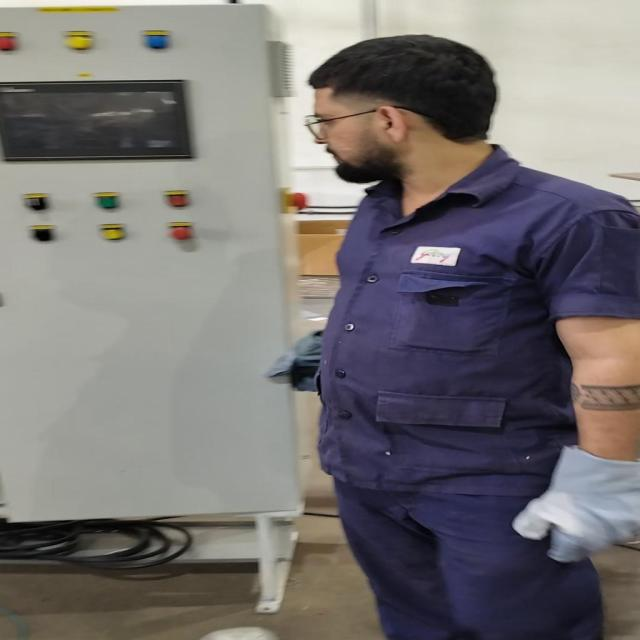Gloves-Detection: (514, 436, 640, 583), (272, 327, 322, 388)
